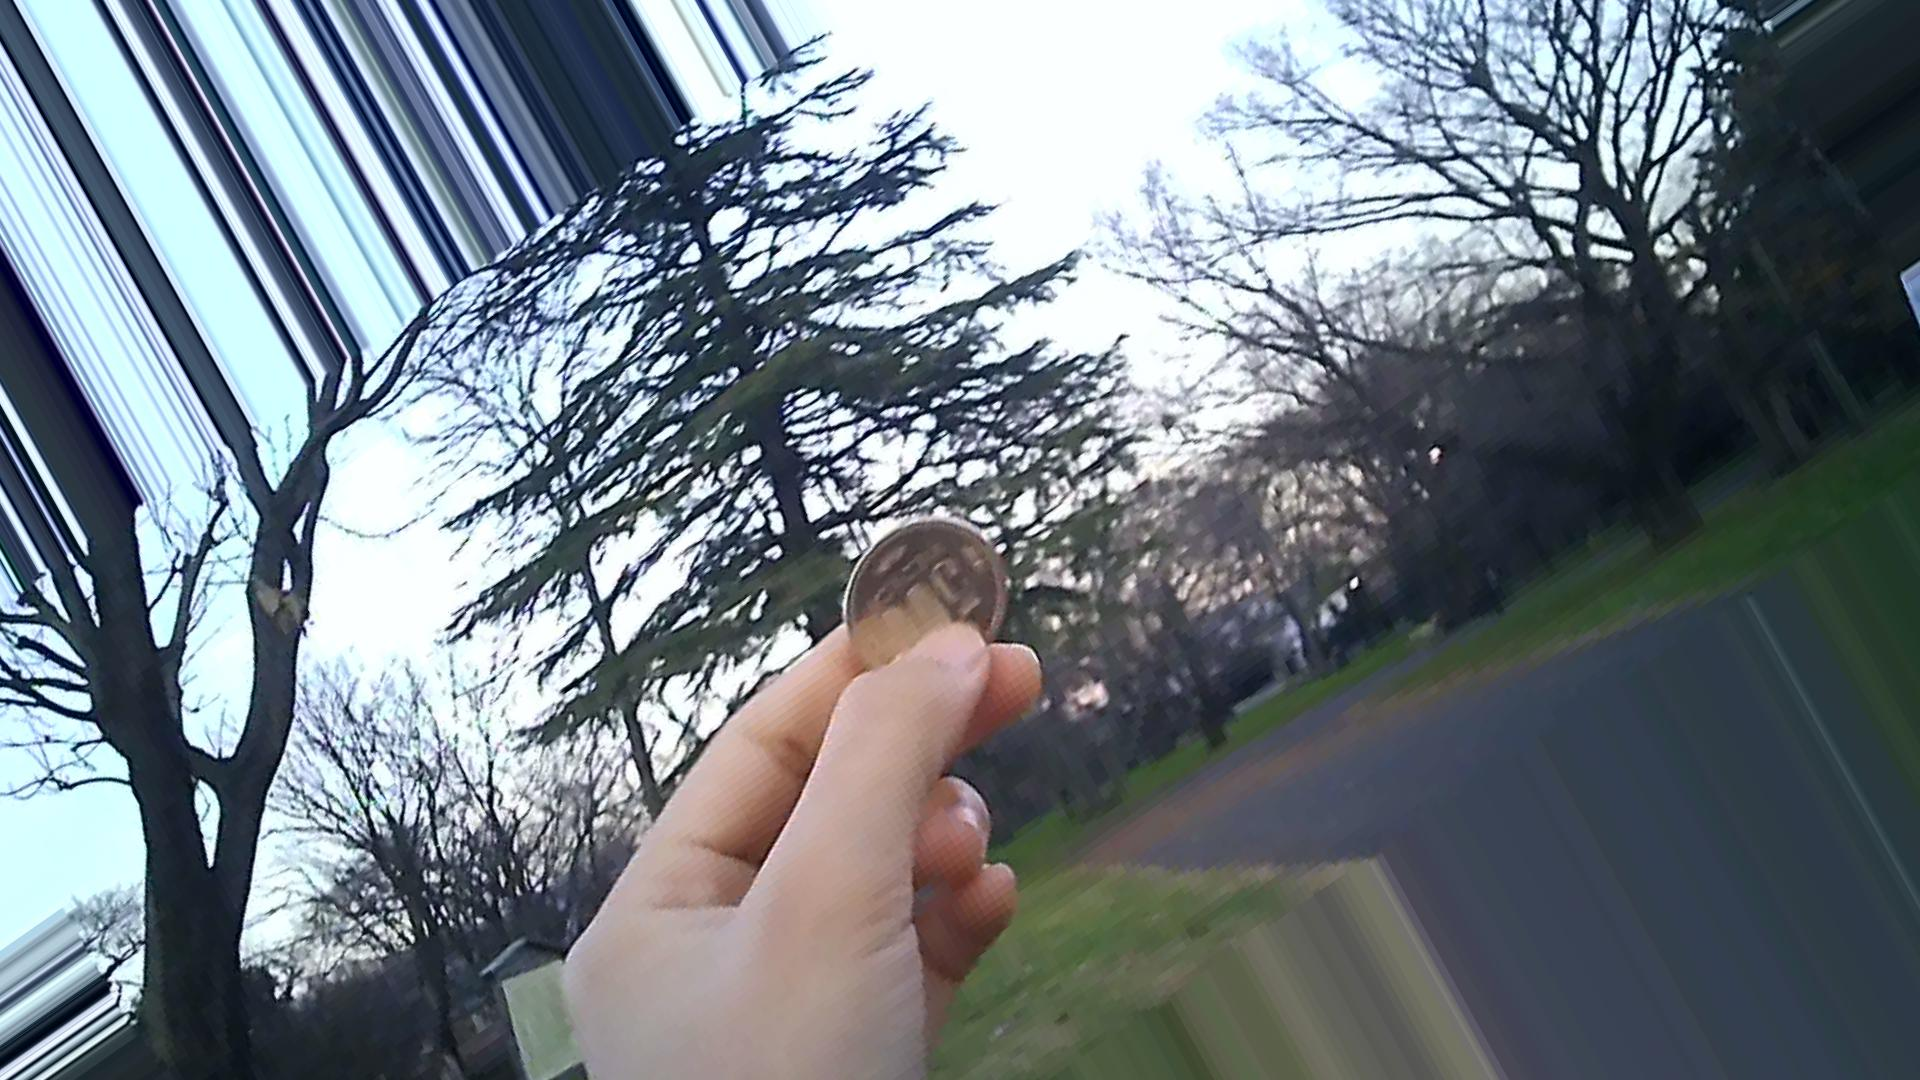500 Yen: (841, 510, 1018, 678)
